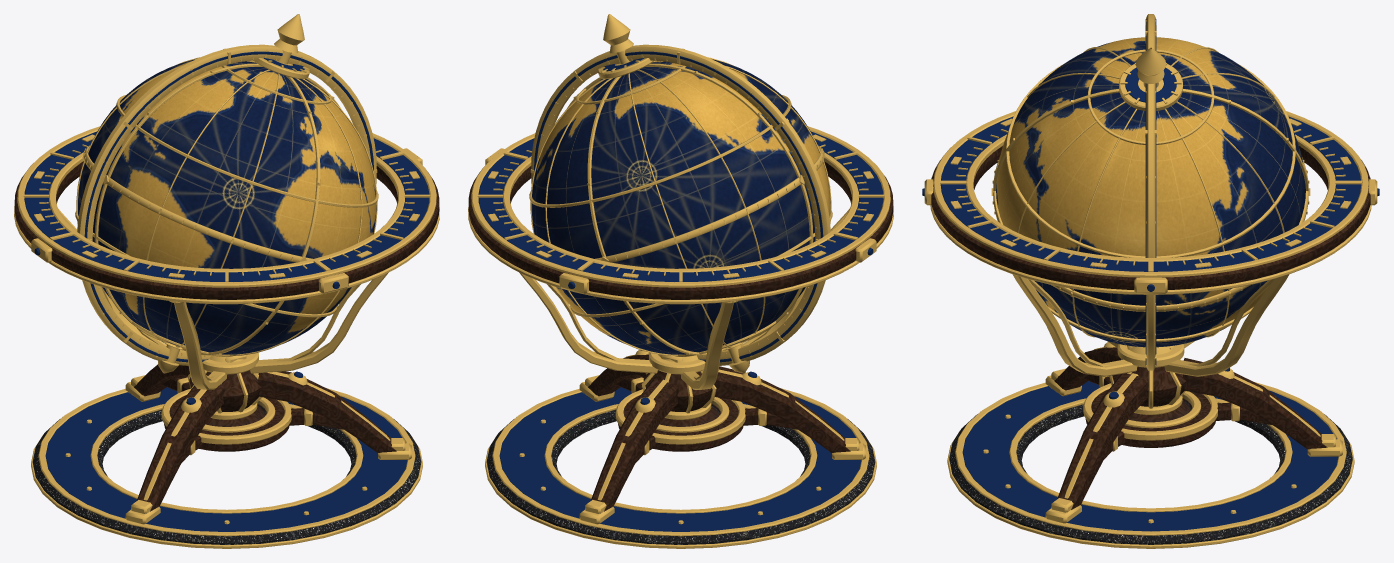
Rendered from meridian_world_globe.glb.
The picture shows the model from 3 angles, left to right: view 1: azimuth 30°, elevation 25°; view 2: azimuth 150°, elevation 25°; view 3: azimuth 270°, elevation 25°; orthographic projection. The views are drawn at different scales.
Parts seen in each view (by area): view 1: Globe_Sphere, Globe_Stand_Brass, Globe_Stand_SapphireInlay, Globe_Stand_Walnut, Globe_Meridian_Ring_Mesh, Globe_Filigree_Brass, Globe_Pedestal_Obsidian, Globe_Meridian_SapphireInlay; view 2: Globe_Sphere, Globe_Stand_Brass, Globe_Stand_SapphireInlay, Globe_Stand_Walnut, Globe_Meridian_Ring_Mesh, Globe_Filigree_Brass, Globe_Pedestal_Obsidian, Globe_Meridian_SapphireInlay; view 3: Globe_Sphere, Globe_Stand_Brass, Globe_Stand_SapphireInlay, Globe_Stand_Walnut, Globe_Filigree_Brass, Globe_Pedestal_Obsidian, Globe_Meridian_Ring_Mesh, Globe_Meridian_SapphireInlay.
Part boxes in pixels (x1,y1,x2,y2): Globe_Sphere: [78, 59, 376, 354]; Globe_Stand_Brass: [14, 126, 439, 548]; Globe_Stand_SapphireInlay: [24, 131, 429, 531]; Globe_Stand_Walnut: [14, 161, 439, 511]; Globe_Meridian_Ring_Mesh: [77, 14, 377, 373]; Globe_Filigree_Brass: [75, 57, 378, 356]; Globe_Pedestal_Obsidian: [32, 409, 421, 544]; Globe_Meridian_SapphireInlay: [84, 51, 373, 362]; Globe_Sphere: [531, 59, 829, 354]; Globe_Stand_Brass: [468, 126, 893, 548]; Globe_Stand_SapphireInlay: [478, 131, 883, 531]; Globe_Stand_Walnut: [468, 161, 893, 511]; Globe_Meridian_Ring_Mesh: [530, 14, 830, 373]; Globe_Filigree_Brass: [529, 57, 832, 356]; Globe_Pedestal_Obsidian: [486, 409, 875, 544]; Globe_Meridian_SapphireInlay: [534, 51, 823, 362]; Globe_Sphere: [996, 37, 1305, 347]; Globe_Stand_Brass: [924, 111, 1377, 548]; Globe_Stand_SapphireInlay: [922, 116, 1379, 531]; Globe_Stand_Walnut: [931, 146, 1370, 509]; Globe_Filigree_Brass: [991, 47, 1310, 342]; Globe_Pedestal_Obsidian: [949, 404, 1352, 544]; Globe_Meridian_Ring_Mesh: [1119, 14, 1182, 370]; Globe_Meridian_SapphireInlay: [1125, 19, 1176, 365].
Bounding box in the file's own units: 1.62 × 1.77 × 1.62.
7 materials, 4 textured.
